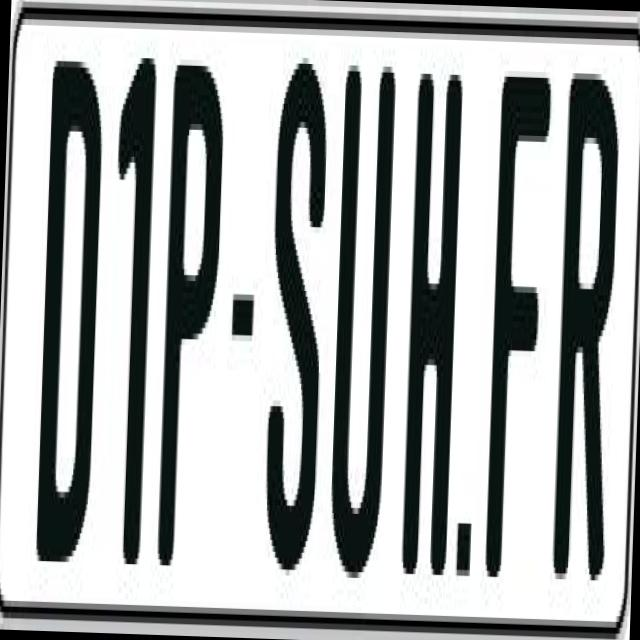1: (103, 57, 157, 576)
D: (36, 61, 112, 568)
F: (483, 76, 558, 607)
H: (399, 62, 466, 580)
P: (154, 65, 228, 590)
R: (552, 78, 624, 592)
S: (261, 57, 333, 588)
U: (324, 64, 402, 596)
